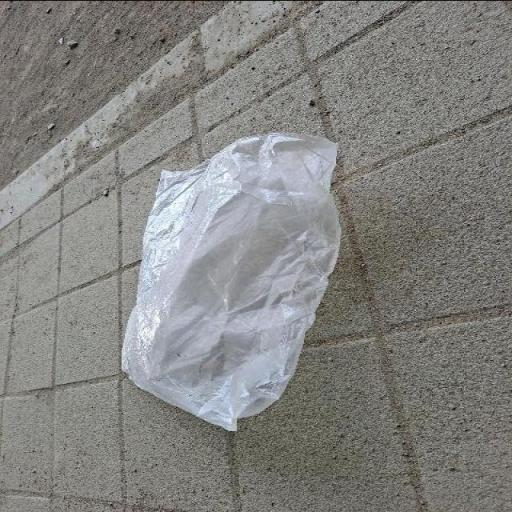plastic-bag: (119, 128, 342, 430)
